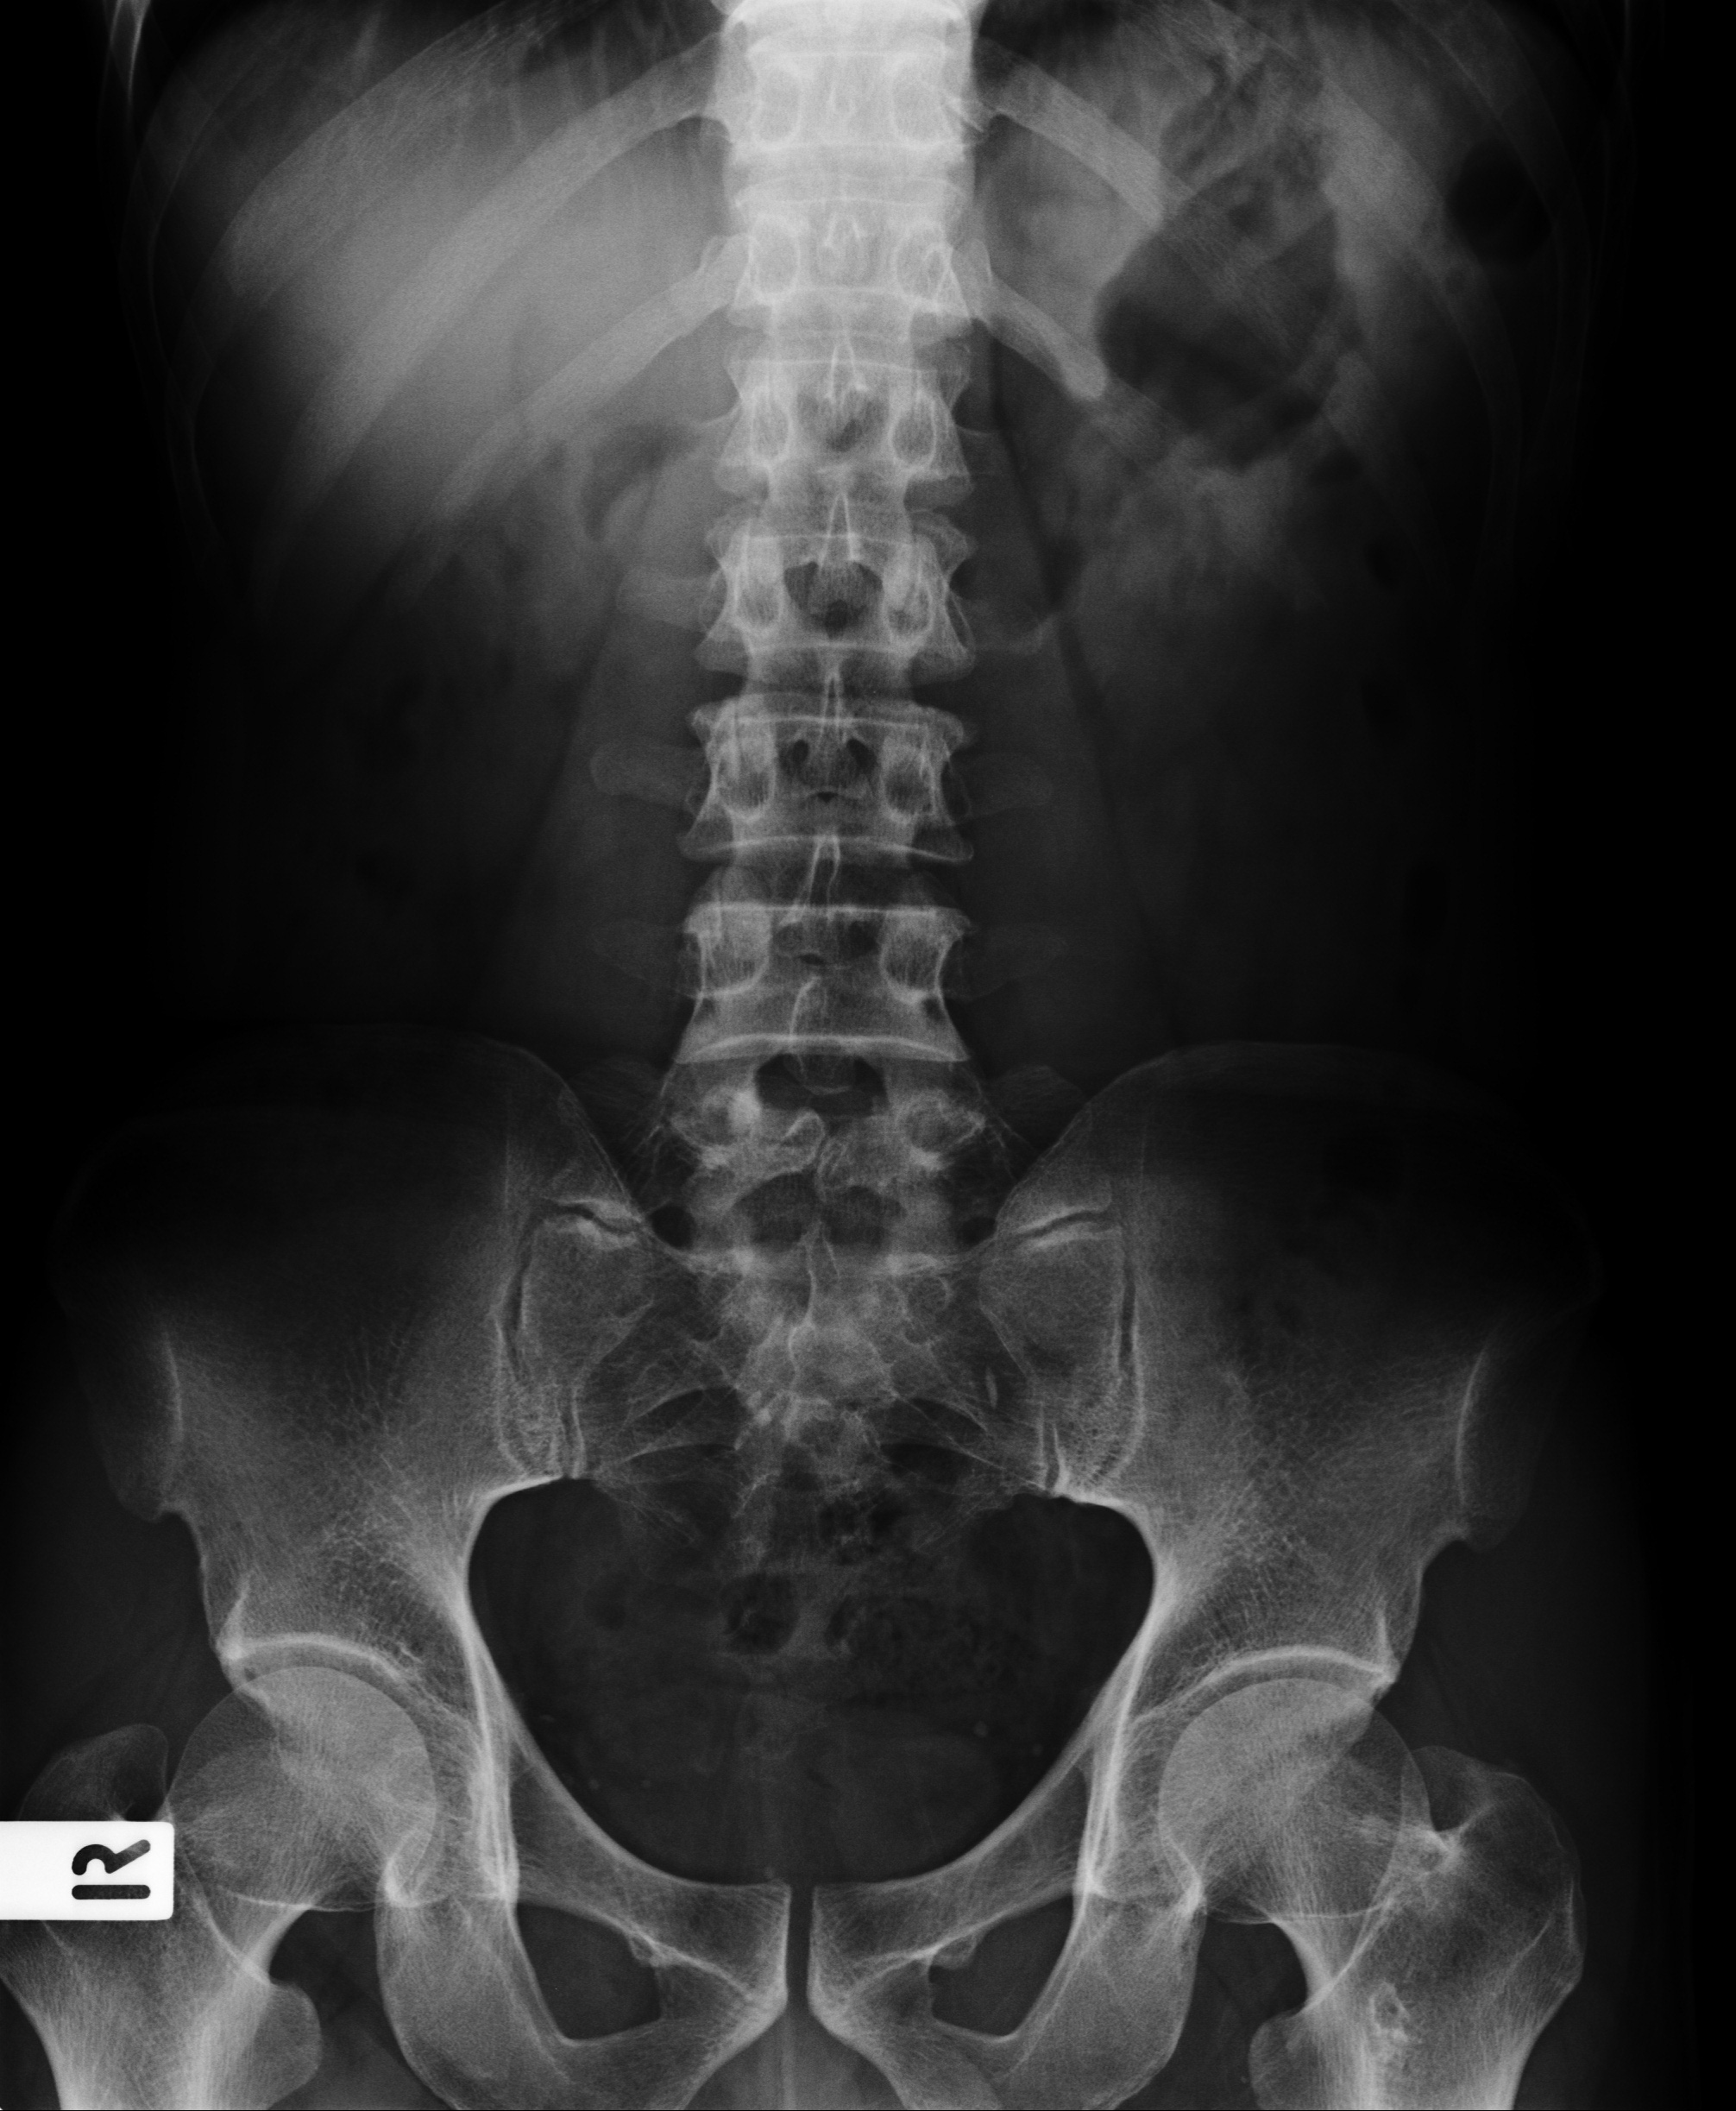lumbar scoliosis: (665, 21, 1000, 1264)
